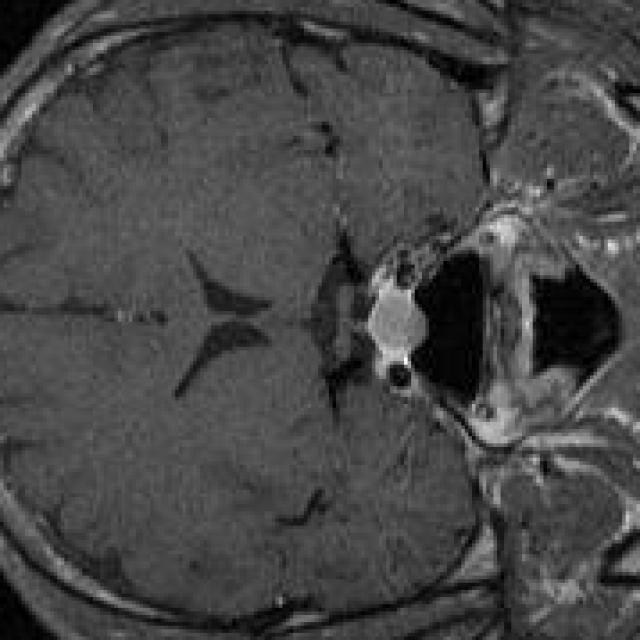pituitary: (365, 257, 429, 368)
